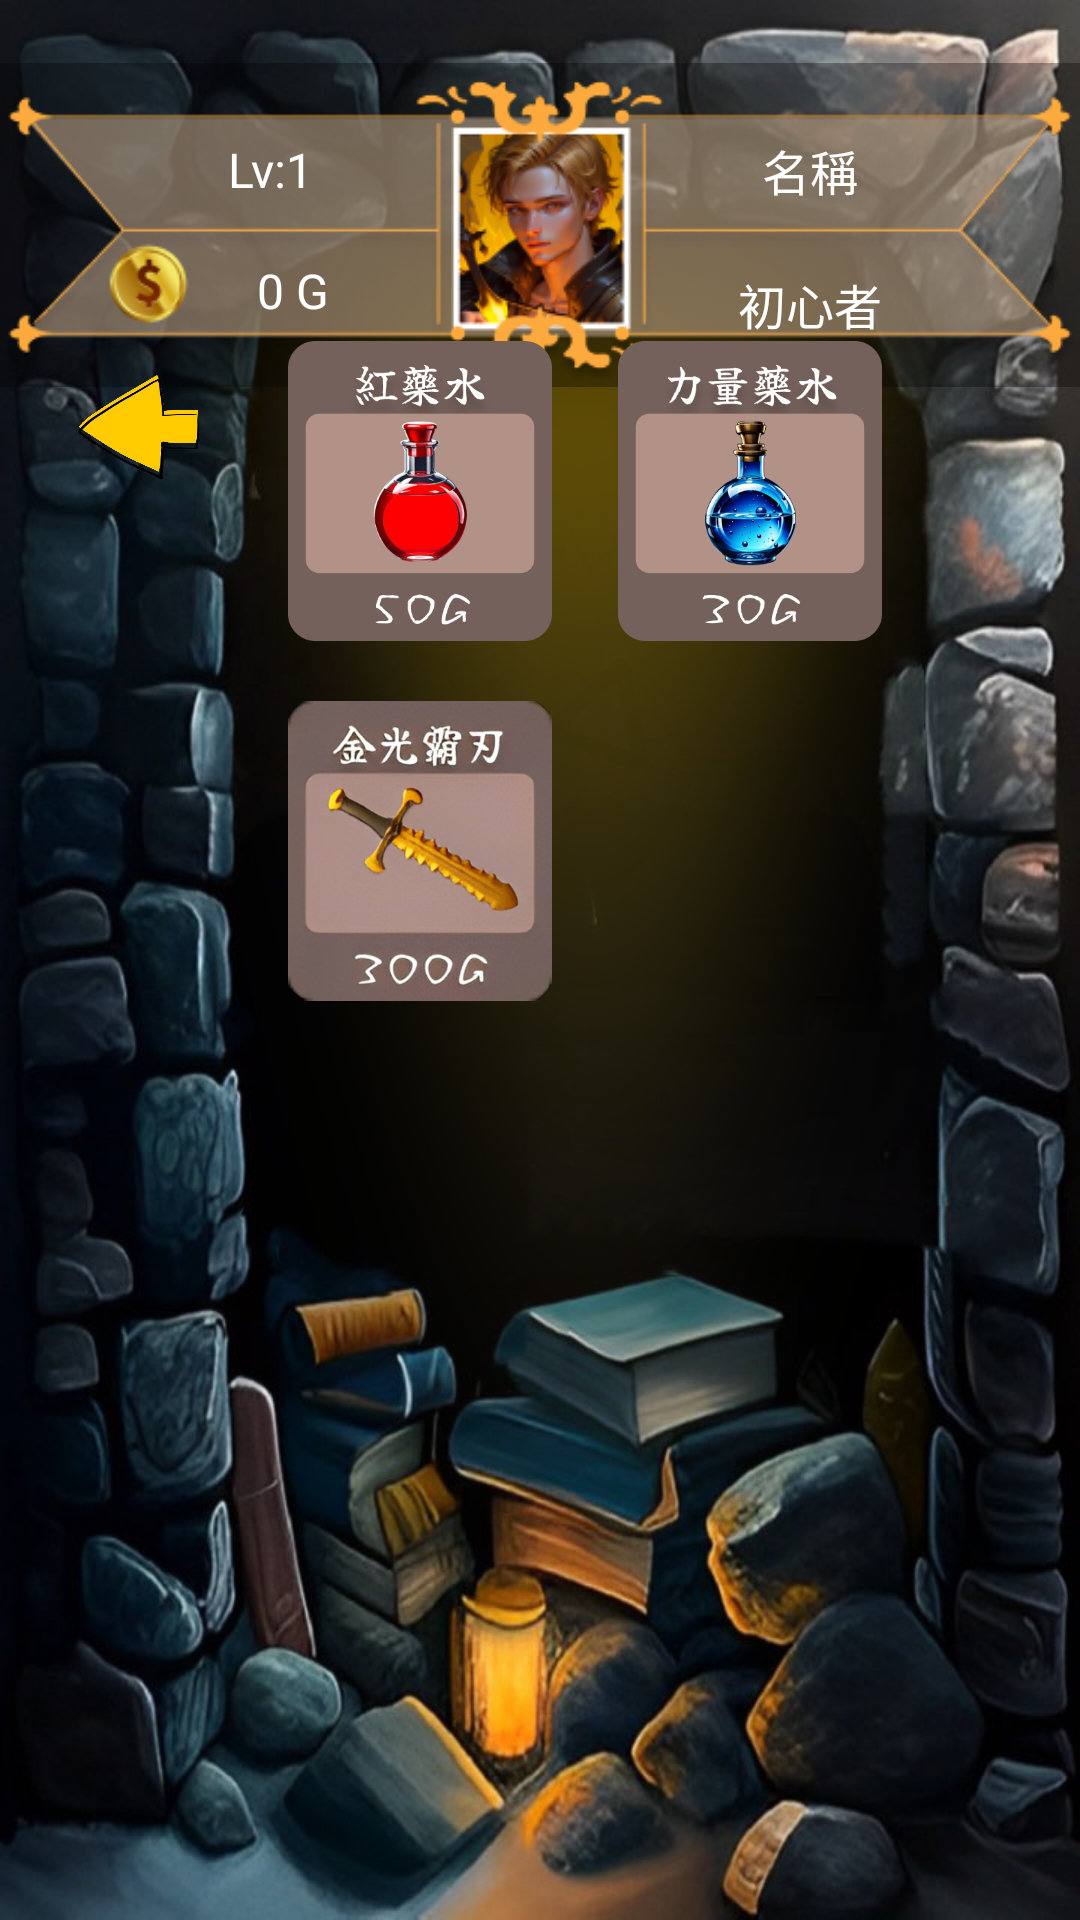

Screen size 1080px x 1920px. Icon name, then its center in pixels as (x=x, y=y):
back: (x=138, y=426)
